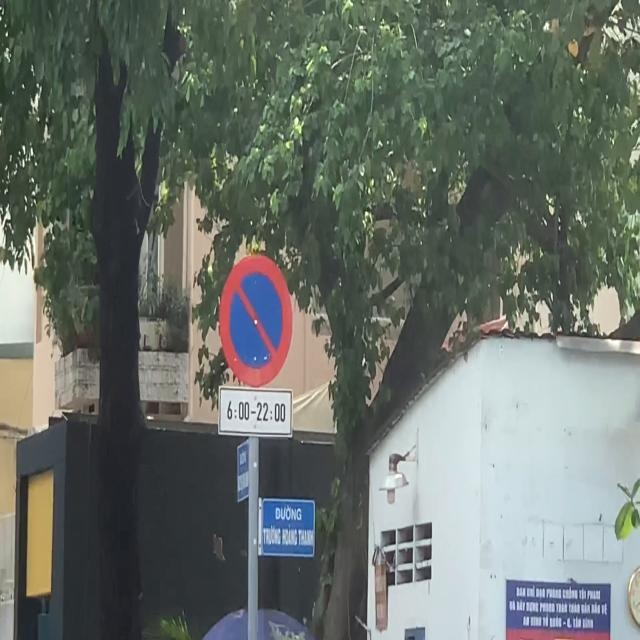bien_cam: (218, 254, 292, 388)
